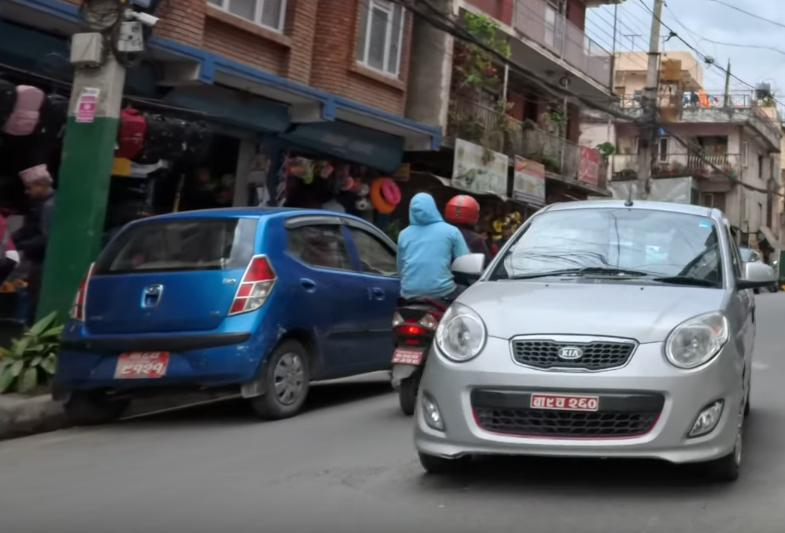car: (406, 191, 761, 501), (67, 201, 406, 417)
